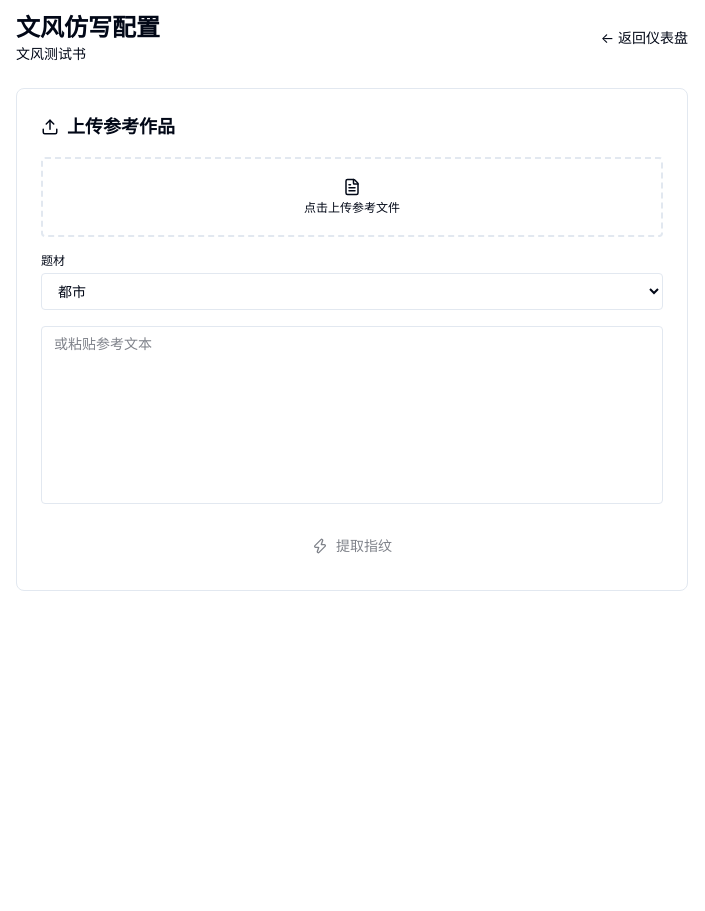
Test: StyleManager Page › shows fingerprint results after extraction
The width and height of the screenshot is (705, 911).
Expected: the heading "文风仿写配置" is shown, 16,12 -> 160,44
Type "参考文本内容，不少于50字。" into the text box with placeholder "或粘贴参考文本".
click(352, 415); type("参考文本内容，不少于50字。")  # box 41,326 -> 663,504
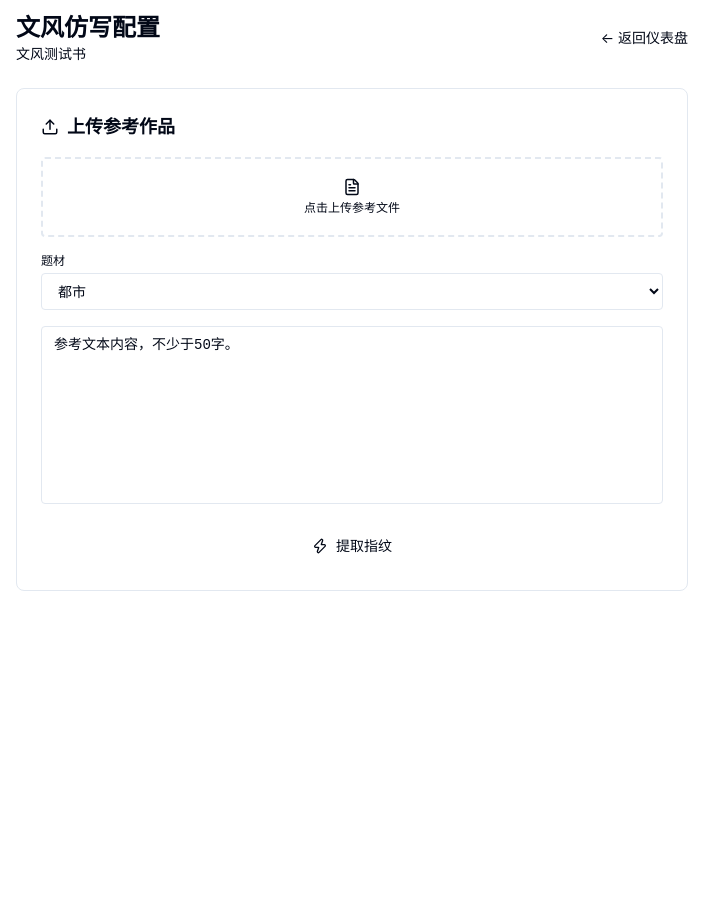
Click the button "提取指纹".
click(352, 546)  # box 41,526 -> 663,566
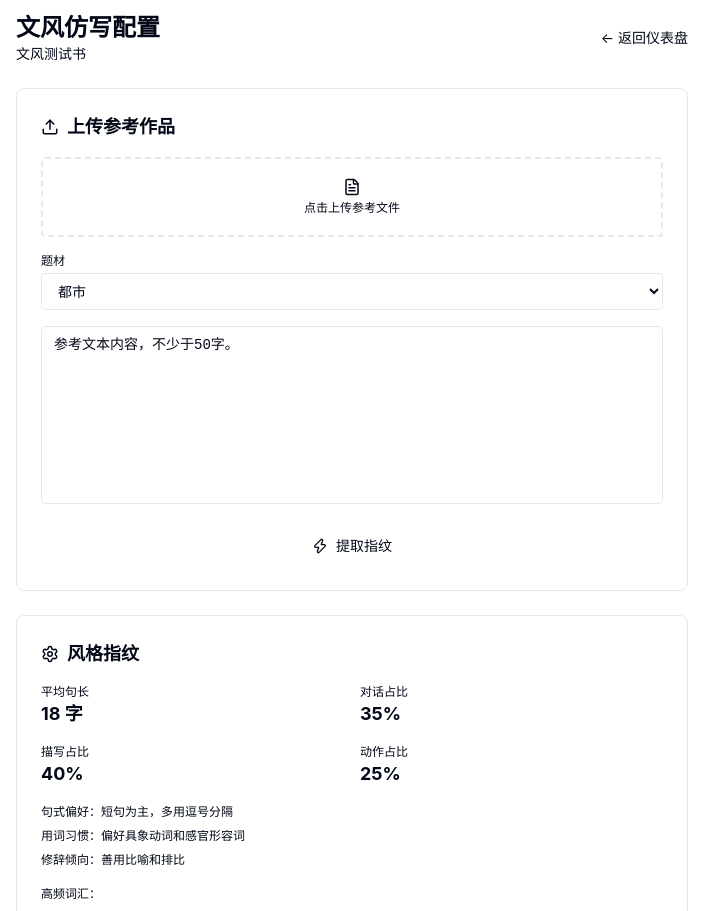
Now the heading "风格指纹" is shown, box 67,640 -> 139,668
Now the text "18 字" is shown, box 41,703 -> 83,724
Now the text "35%" is shown, box 360,703 -> 401,724
